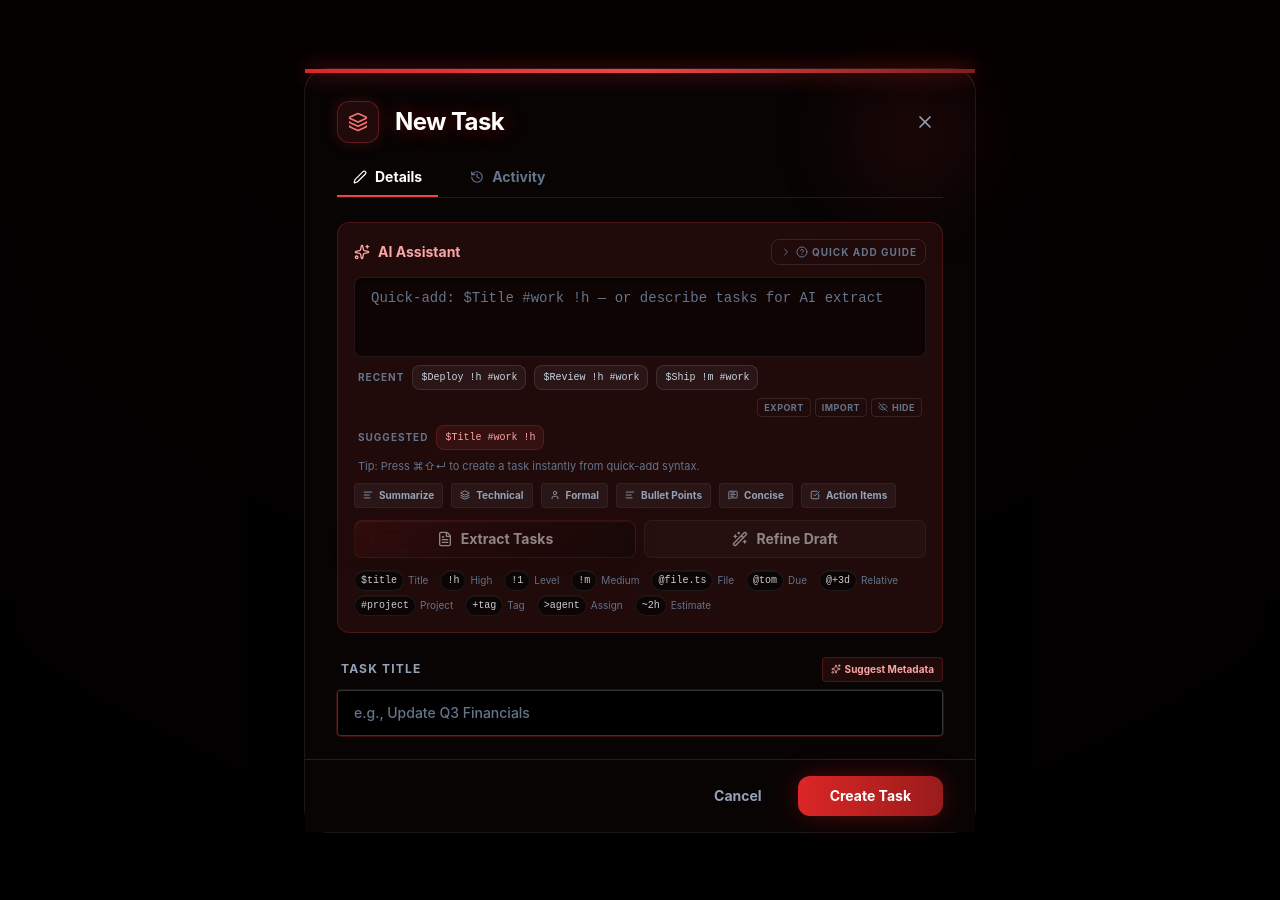
Test case: TaskFormModal AI Integration › handles Refine Draft action
Type "Old Title" into the field with placeholder "e.g., Update Q3 Financials" at (640, 712), box [337, 690, 943, 736]
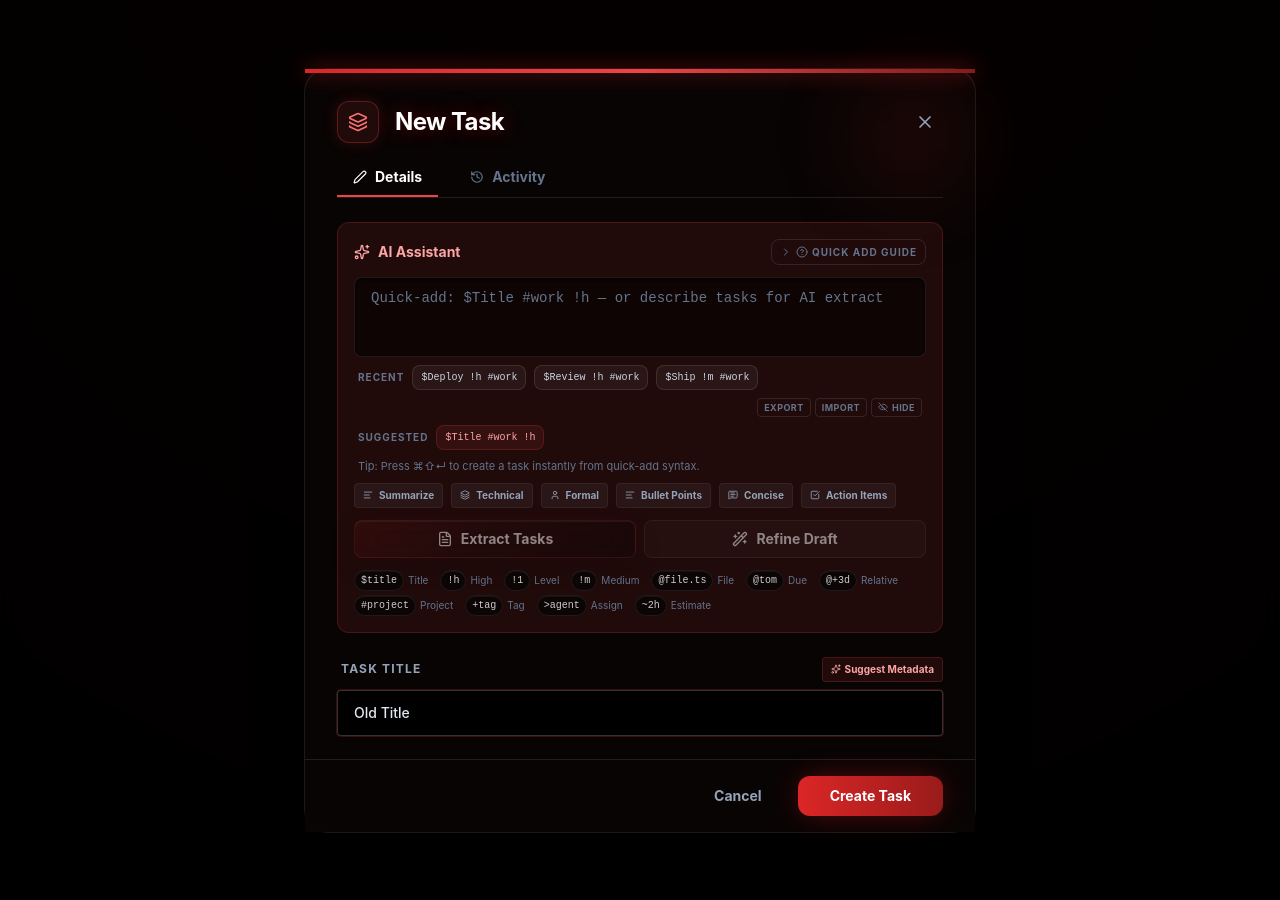
Replace the text in the dropdown with placeholder "Quick-add:" with "Make it better" at (640, 316), box [354, 276, 926, 356]
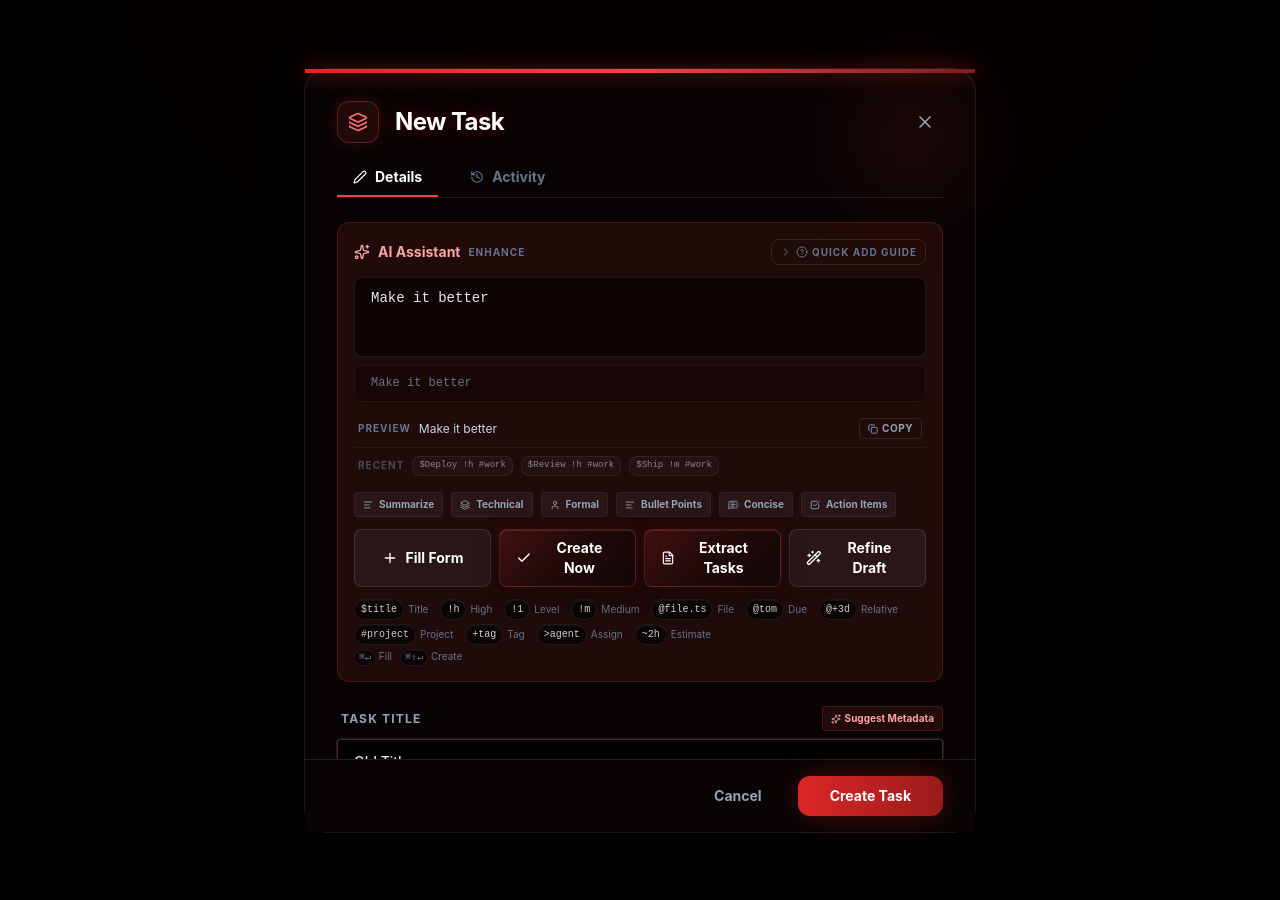
Click the button "Refine Draft" at (858, 558), box [789, 529, 926, 587]
(page scrolled)
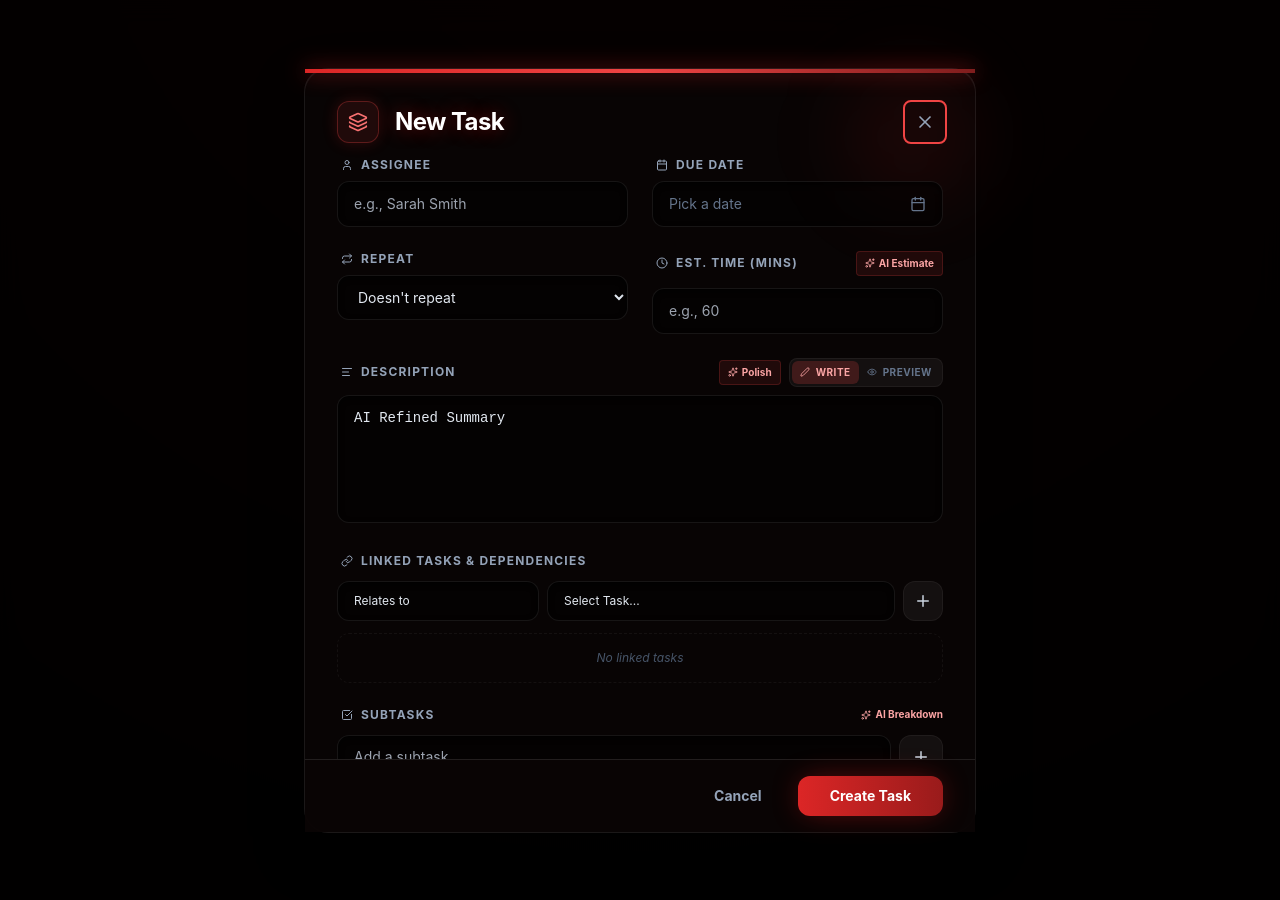
Expected: the text box showing "AI Refined Summary" is shown, [337, 394, 943, 522]
